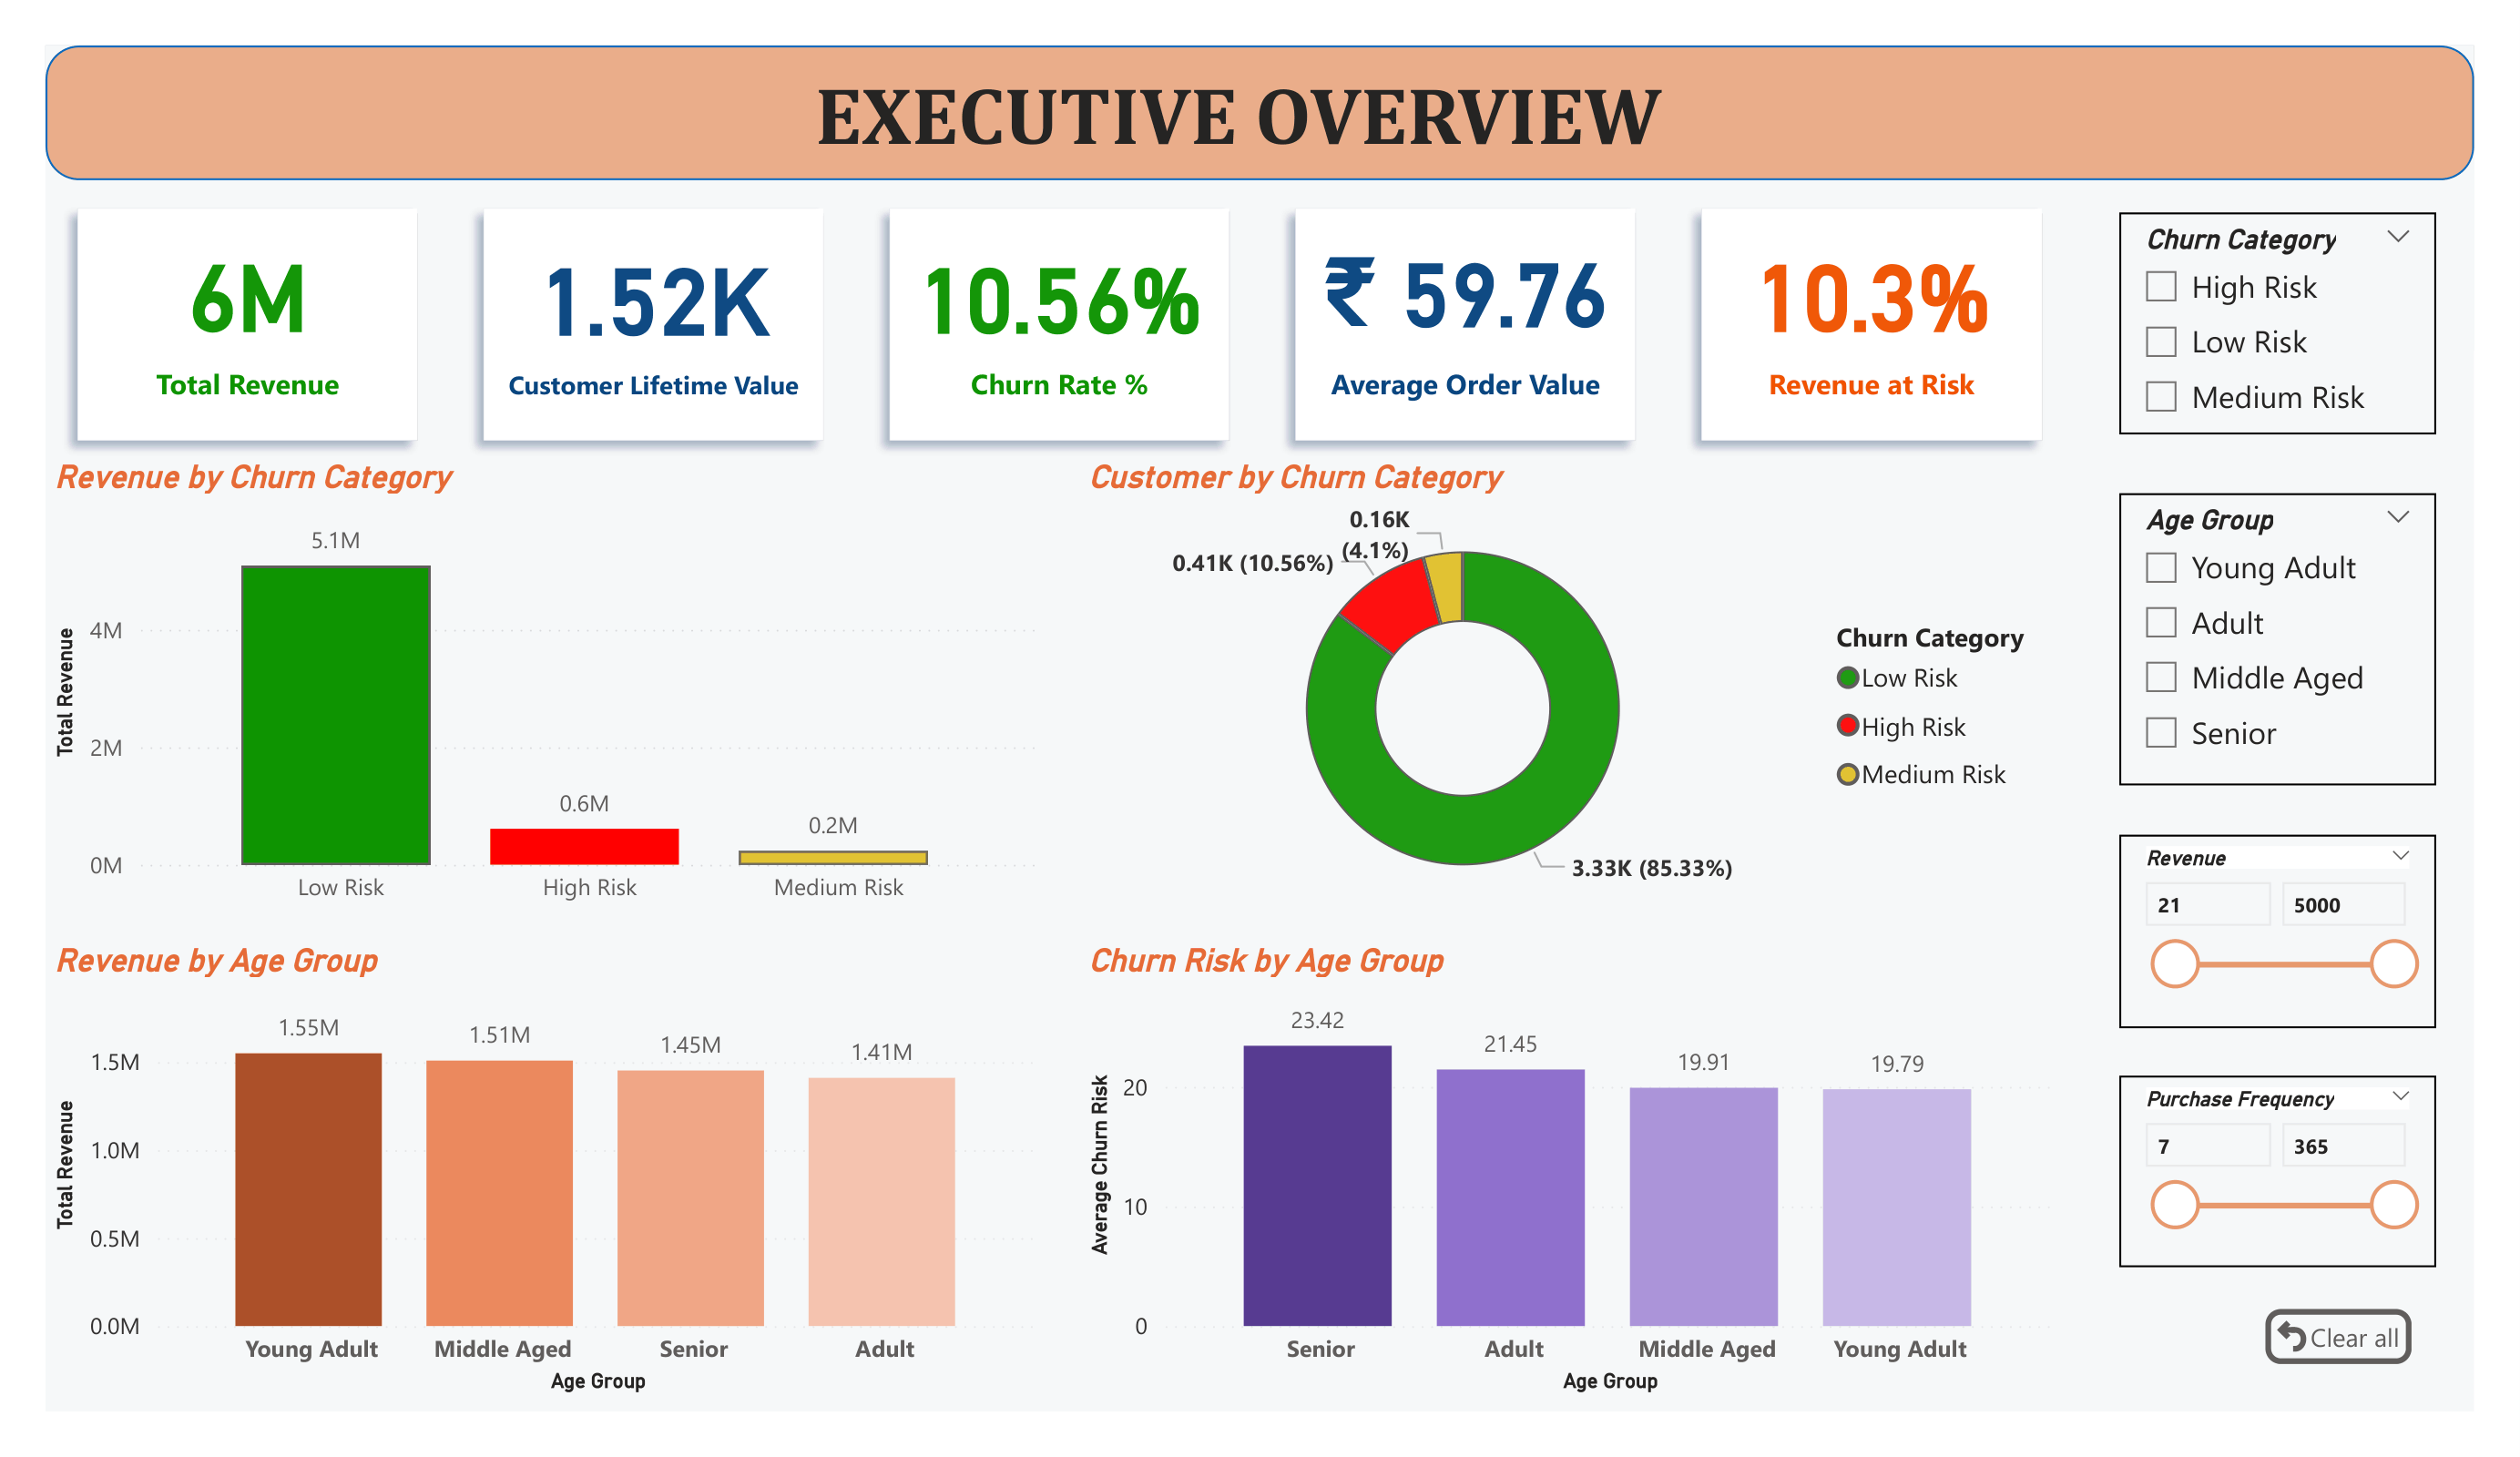

The page's visual inventory and layout, read from the dashboard file:
{"tool":"powerbi","page":{"name":"Page 1","canvas":[1280,720],"ordinal":0},"visuals":[{"type":"cardVisual","fields":{"Data":["Advanced_retail_analytics.Total Revenue","Advanced_retail_analytics.Customer Lifetime Value","Advanced_retail_analytics.Churn Rate %","Advanced_retail_analytics.Average Order Value","Advanced_retail_analytics.High Risk Revenue %"]},"box":[0,68.8,1072.5,156.8],"z":0},{"type":"clusteredColumnChart","title":"Revenue by Churn Category","fields":{"Category":["Advanced_retail_analytics.churn_category"],"Y":["Sum(Advanced_retail_analytics.total_revenue)"]},"box":[0,217.2,528.4,244.9],"z":1000},{"type":"donutChart","title":"Customer by Churn Category","fields":{"Category":["Advanced_retail_analytics.churn_category"],"Y":["Count(Advanced_retail_analytics.customer_id)"]},"box":[545.3,217.2,518.8,246.1],"z":2000},{"type":"clusteredColumnChart","title":"Revenue by Age Group","fields":{"Category":["Advanced_retail_analytics.age_group"],"Y":["Sum(Advanced_retail_analytics.total_revenue)"]},"box":[0,471.7,528.4,243.7],"z":3000},{"type":"clusteredColumnChart","title":"Churn Risk by Age Group","fields":{"Category":["Advanced_retail_analytics.age_group"],"Y":["Avg(Advanced_retail_analytics.churn_risk_score)"]},"box":[545.3,471.7,518.8,243.7],"z":4000},{"type":"shape","box":[1072.4,68.5,207.9,646.9],"z":5000},{"type":"slicer","fields":{"Values":["Advanced_retail_analytics.churn_category"]},"box":[1093,88.1,166.5,117],"z":6000},{"type":"slicer","fields":{"Values":["Advanced_retail_analytics.age_group"]},"box":[1093,236.5,166.5,153.2],"z":7000},{"type":"slicer","fields":{"Values":["Advanced_retail_analytics.total_revenue"]},"box":[1093,416.2,166.5,101.3],"z":8000},{"type":"slicer","fields":{"Values":["Advanced_retail_analytics.purchase_frequency_days"]},"box":[1093,542.9,166.5,101.3],"z":9000},{"type":"actionButton","box":[1170.3,666.4,77,28.1],"z":11000},{"type":"shape","box":[0,0,1280.3,70.9],"z":12000},{"type":"textbox","box":[333.8,6.2,582.5,65],"z":13000}]}

Visuals, with their boxes on the page's 1280x720 design canvas (x1, y1, x2, y2). These are canvas units, not pixel positions in the 2520x1457 screenshot, which may show the page scaled, cropped or inside an application window:
cardVisual - Advanced_retail_analytics.Total Revenue x Advanced_retail_analytics.Customer Lifetime Value: 0,69,1072,226
"Revenue by Churn Category" clusteredColumnChart: 0,217,528,462
"Customer by Churn Category" donutChart: 545,217,1064,463
"Revenue by Age Group" clusteredColumnChart: 0,472,528,715
"Churn Risk by Age Group" clusteredColumnChart: 545,472,1064,715
shape: 1072,68,1280,715
slicer - Advanced_retail_analytics.churn_category: 1093,88,1260,205
slicer - Advanced_retail_analytics.age_group: 1093,236,1260,390
slicer - Advanced_retail_analytics.total_revenue: 1093,416,1260,518
slicer - Advanced_retail_analytics.purchase_frequency_days: 1093,543,1260,644
actionButton: 1170,666,1247,694
shape: 0,0,1280,71
textbox: 334,6,916,71
